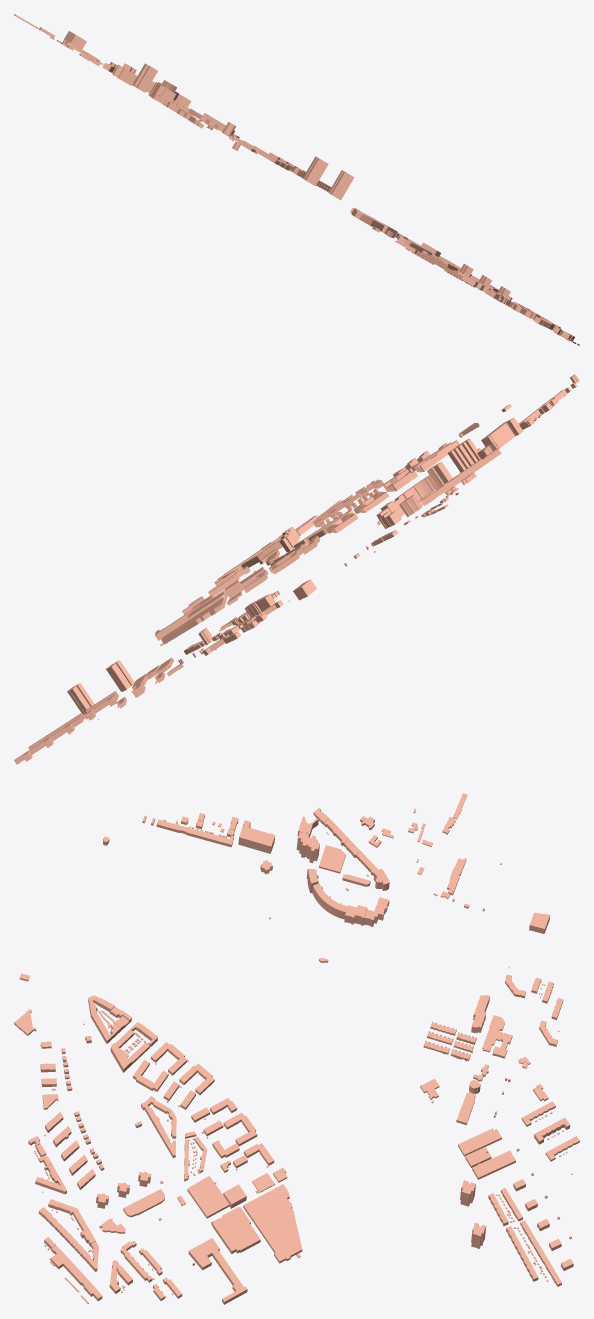
The picture shows the model from 3 angles, top to bottom: view 1: azimuth 30°, elevation 25°; view 2: azimuth 150°, elevation 25°; view 3: azimuth 270°, elevation 25°; orthographic projection. The views are drawn at different scales.
Size of the model in its own units: 1056 by 779 by 1265.
